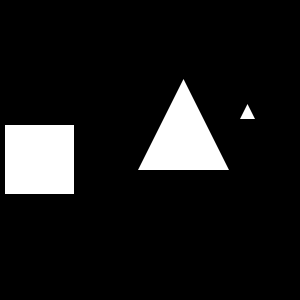circle: (5, 125, 74, 194)
triangle: (138, 79, 229, 170), (240, 104, 255, 119)
